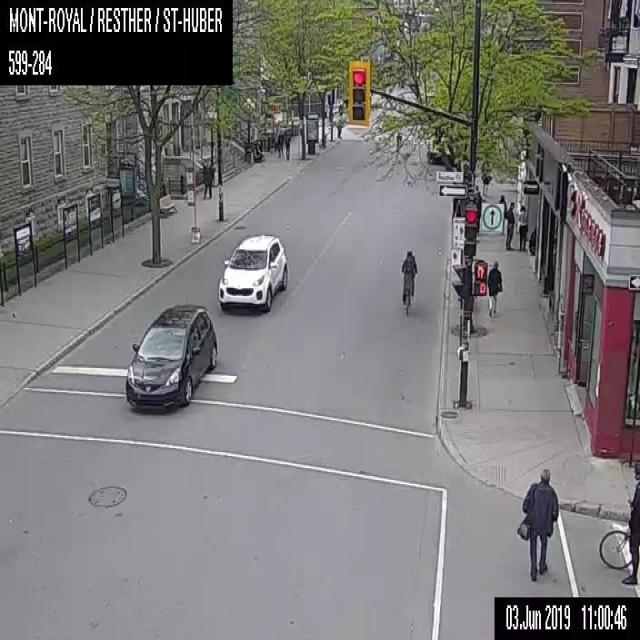cyclist: (597, 458, 639, 586), (399, 249, 416, 316), (395, 130, 401, 150)
pedestrian: (515, 468, 559, 580), (486, 259, 502, 316), (516, 204, 528, 249), (504, 201, 514, 249), (202, 160, 212, 198), (497, 193, 506, 234), (284, 132, 290, 159), (277, 130, 282, 156)
vehicle: (124, 304, 217, 406), (217, 234, 287, 314)
